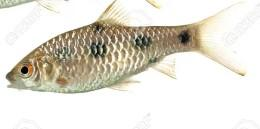Black Spotted Barb: (1, 7, 260, 101)
